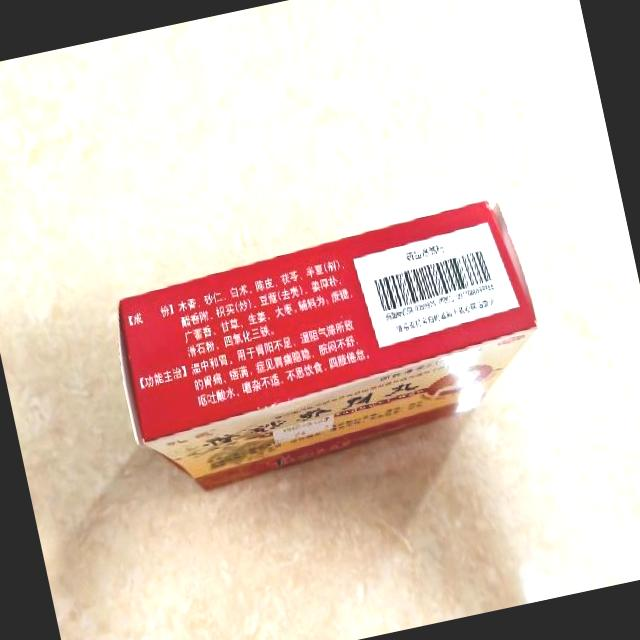box: (103, 193, 557, 503)
